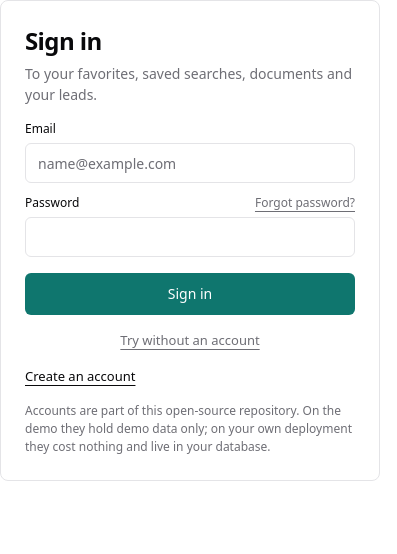
Test: LoginPage › shows an error message when login fails
In the field labelled "Email": (190, 163) [25, 143, 355, 183], type "test@example.com"
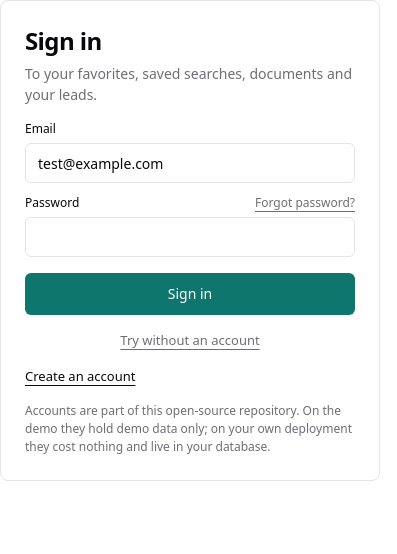
In the password field labelled "Password": (190, 237) [25, 217, 355, 257], type "wrong"
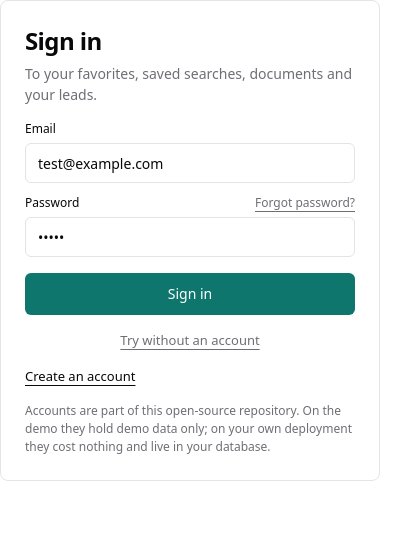
Click the button "Sign in": (190, 294) [25, 273, 355, 315]
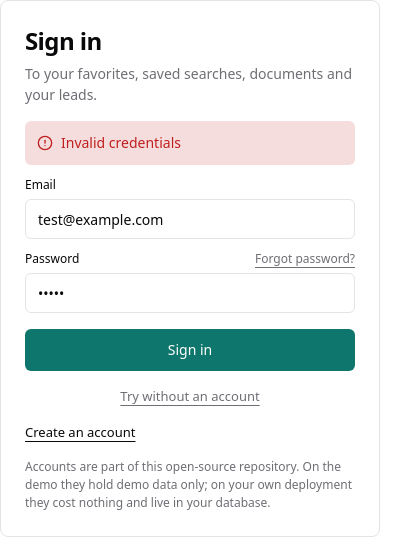
Check: the message reads "Invalid credentials", box [61, 133, 181, 152]
